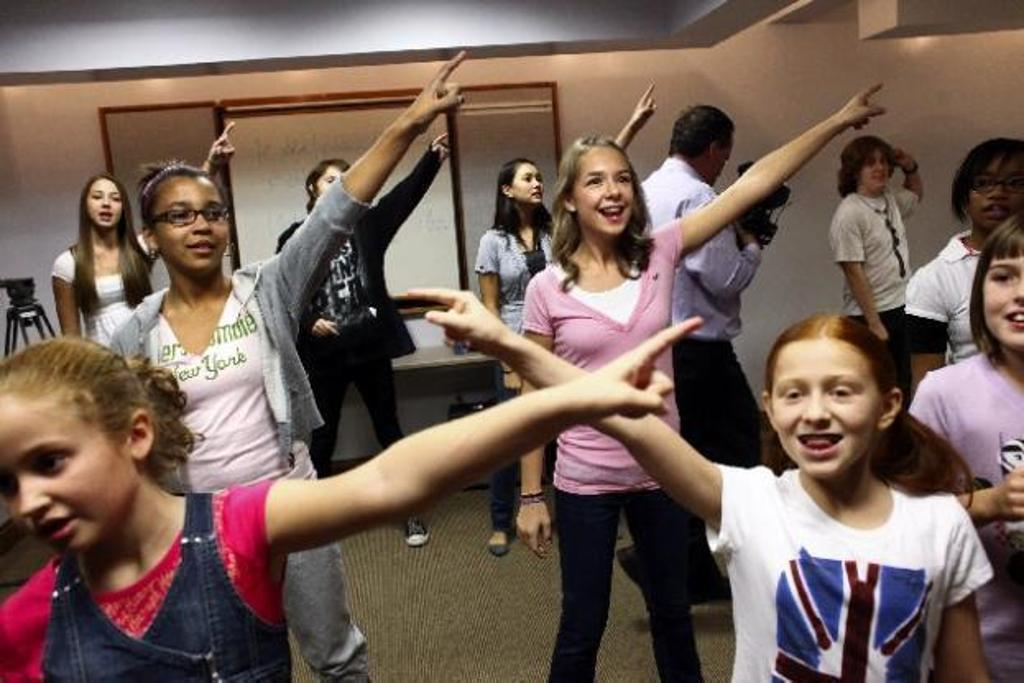face: (1, 399, 125, 551), (772, 340, 879, 478), (157, 176, 228, 271), (577, 151, 634, 235), (985, 256, 1024, 347), (969, 165, 1024, 229), (315, 168, 351, 212), (89, 181, 122, 227), (511, 165, 543, 203), (864, 153, 889, 192)
